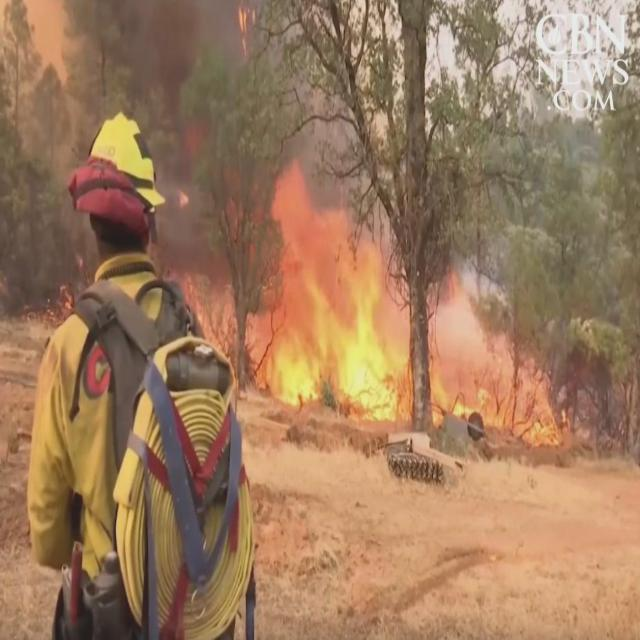Fire: (251, 148, 413, 447), (430, 345, 574, 459)
